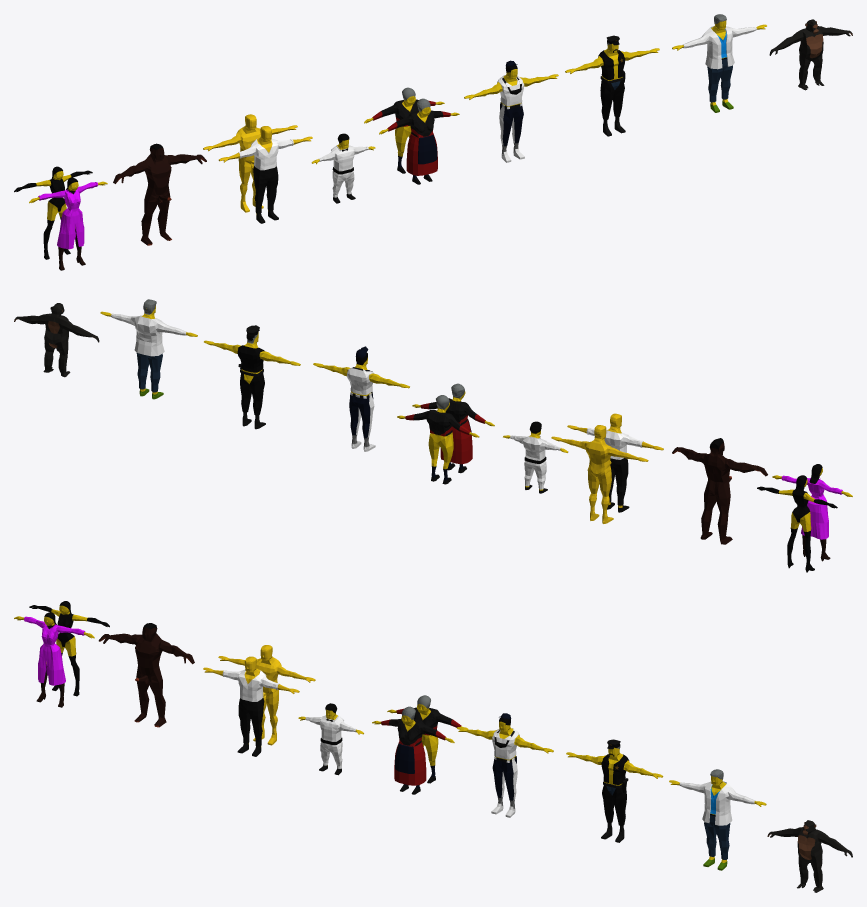
The model's file is all_chars.fbx.
The picture shows the model from 3 angles, top to bottom: view 1: azimuth 30°, elevation 25°; view 2: azimuth 150°, elevation 25°; view 3: azimuth 330°, elevation 25°; orthographic projection. The views are drawn at different scales.
Parts seen in each view (by area): view 1: Reginaldo, Dealer, Velha, Bofia, Guna, Rogerio, Dom "vestida", Macaco, Rogerio Nu, Sr. Tono, Dom, Velha Nua; view 2: Reginaldo, Dealer, Bofia, Guna, Rogerio Nu, Velha Nua, Macaco, Rogerio, Velha, Dom "vestida", Dom, Sr. Tono; view 3: Reginaldo, Dealer, Velha, Rogerio, Bofia, Guna, Dom "vestida", Macaco, Rogerio Nu, Sr. Tono, Dom, Velha Nua.
Part boxes in pixels (x1,y1,x2,y2): Reginaldo: (113, 143, 206, 245); Dealer: (672, 14, 766, 112); Velha: (379, 98, 459, 184); Bofia: (565, 35, 659, 136); Guna: (464, 60, 558, 162); Rogerio: (218, 126, 312, 223); Dom "vestida": (29, 177, 107, 270); Macaco: (769, 19, 852, 90); Rogerio Nu: (203, 114, 297, 212); Sr. Tono: (311, 133, 375, 203); Dom: (14, 166, 92, 259); Velha Nua: (364, 87, 444, 173); Reginaldo: (672, 438, 767, 544); Dealer: (100, 299, 197, 399); Bofia: (204, 325, 300, 429); Guna: (313, 346, 409, 451); Rogerio Nu: (551, 425, 648, 523); Velha Nua: (397, 395, 479, 484); Macaco: (14, 303, 99, 377); Rogerio: (567, 413, 663, 512); Velha: (412, 383, 494, 473); Dom "vestida": (772, 464, 852, 561); Dom: (757, 475, 837, 572); Sr. Tono: (503, 421, 568, 493); Reginaldo: (98, 623, 194, 727); Dealer: (669, 769, 766, 870); Velha: (372, 706, 454, 794); Rogerio: (203, 656, 299, 756); Bofia: (566, 739, 663, 842); Guna: (457, 713, 553, 817); Dom "vestida": (14, 612, 94, 707); Macaco: (767, 820, 852, 892); Rogerio Nu: (218, 645, 315, 745); Sr. Tono: (298, 703, 363, 775); Dom: (29, 601, 109, 696); Velha Nua: (387, 695, 468, 783).
Bounding box in the file's own units: 15.8 × 1.8 × 0.9779.
